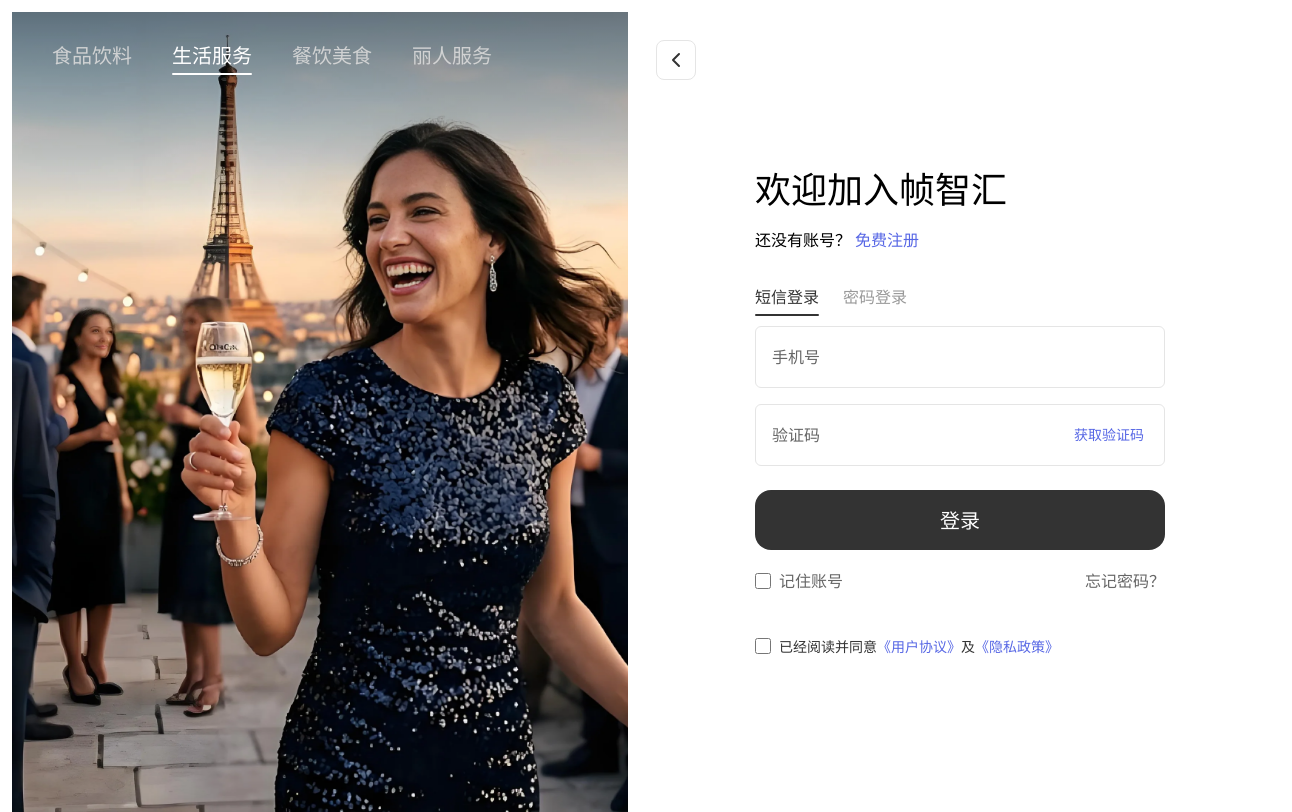
Test: LoginView behavior › accepts an 11-digit mainland mobile when requesting an SMS code
This screenshot has width=1292, height=812.
In the field labelled "手机号": (960, 357) [756,327,1164,387], type "17633125265"
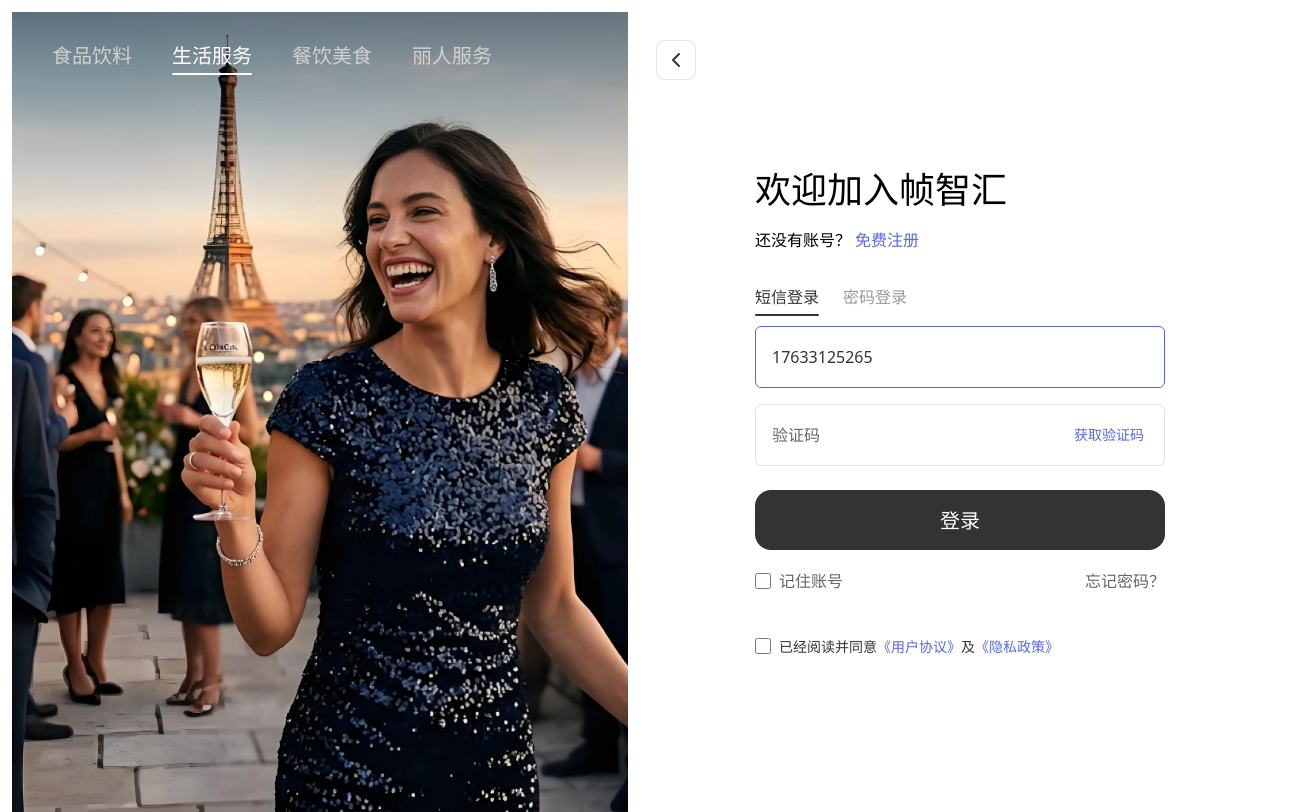
Click the button "获取验证码": (1109, 435) [1062,417,1156,453]
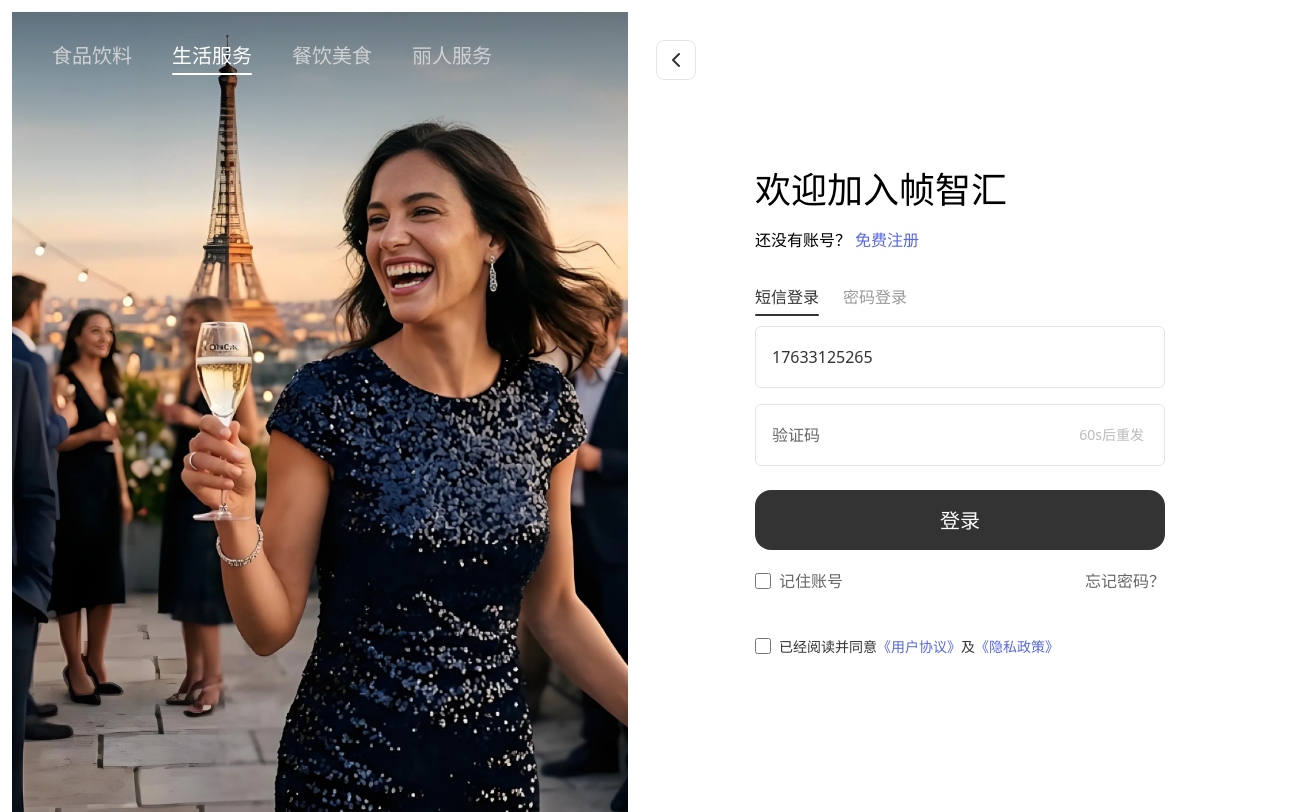
Now the button "60s后重发" is disabled, box [1067,417,1156,453]
